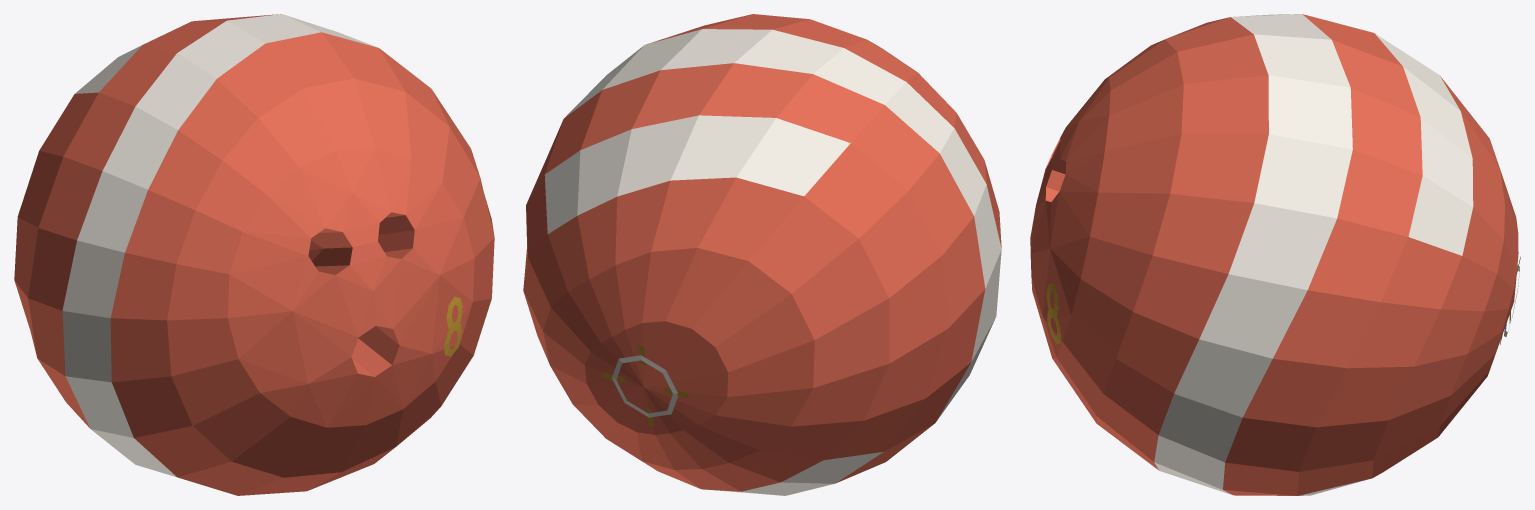
Rendered from cozy_bowling_ball_08lb.glb.
The picture shows the model from 3 angles, left to right: view 1: azimuth 30°, elevation 25°; view 2: azimuth 150°, elevation 25°; view 3: azimuth 270°, elevation 25°; orthographic projection.
Parts seen in each view (by area): view 1: Ball_08lb_Mesh; view 2: Ball_08lb_Mesh; view 3: Ball_08lb_Mesh.
Part boxes in pixels (bbox=[...]): Ball_08lb_Mesh: bbox=[14, 14, 494, 495]; Ball_08lb_Mesh: bbox=[523, 14, 1001, 495]; Ball_08lb_Mesh: bbox=[1030, 14, 1520, 495].
Bounding box in the file's own units: 0.2161 × 0.2161 × 0.2171.
